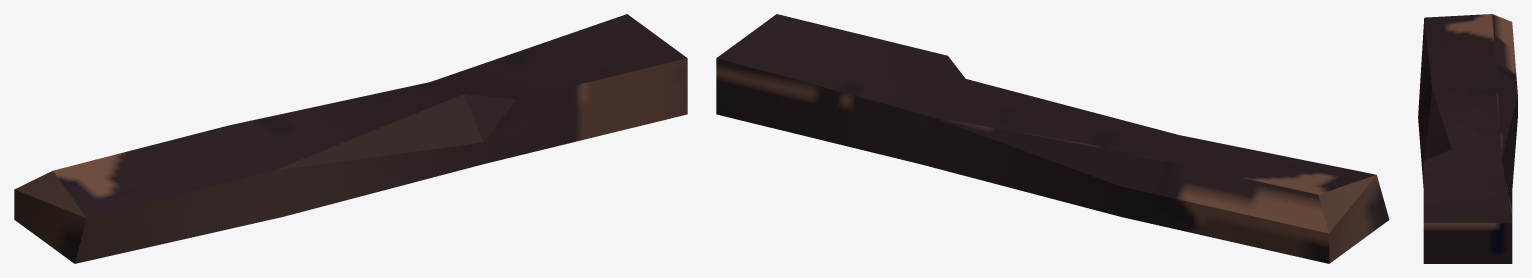
The model's file is bridge_05.FBX.
3 views of the same model, side by side, from view 1: azimuth 30°, elevation 25°; view 2: azimuth 150°, elevation 25°; view 3: azimuth 270°, elevation 25° (orthographic). The views are drawn at different scales.
Parts seen in each view (by area): view 1: bridge_05; view 2: bridge_05; view 3: bridge_05.
Boxes of the visible parts, x1,y1,x2,y2 form: bridge_05: [14, 14, 687, 263]; bridge_05: [716, 14, 1389, 263]; bridge_05: [1418, 14, 1517, 263].
Size of the model in its own units: 3.71 by 0.3258 by 0.7119.
